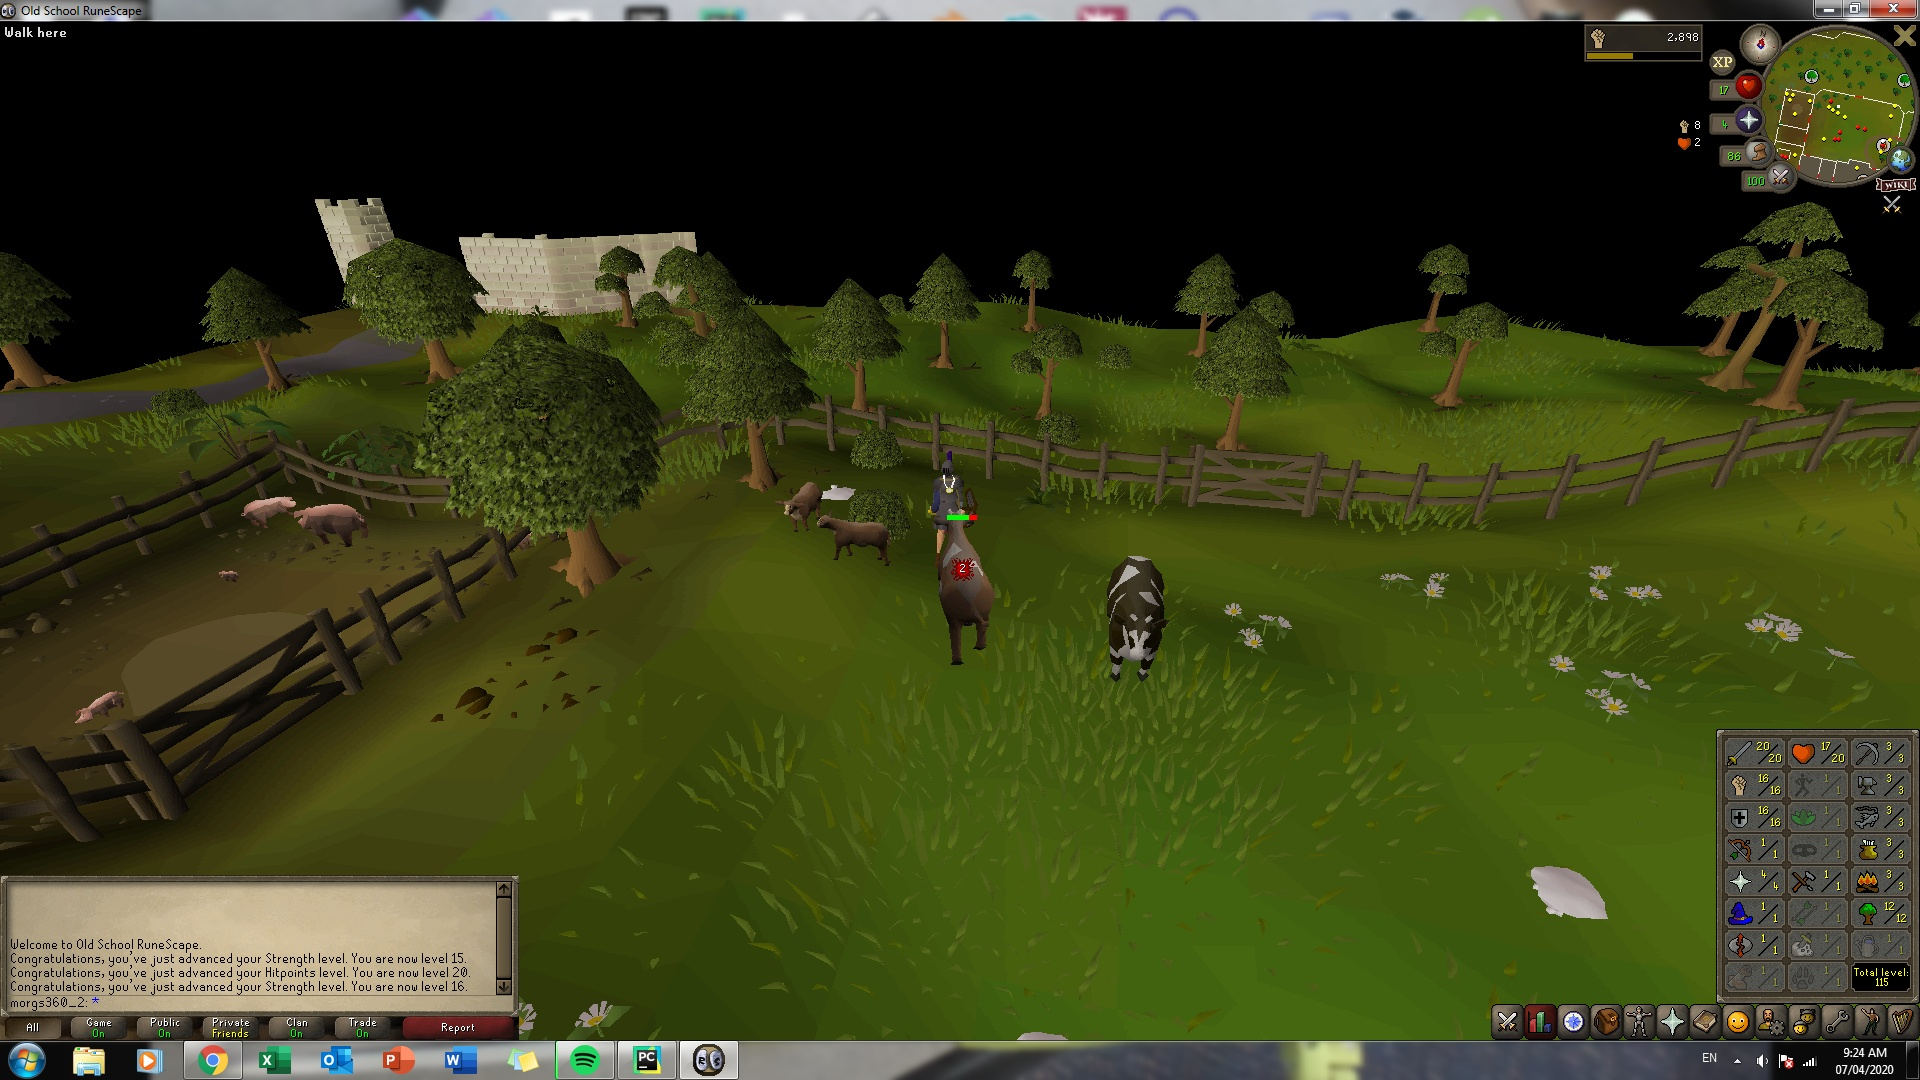cow: (920, 512, 1007, 667), (1104, 547, 1171, 686)
